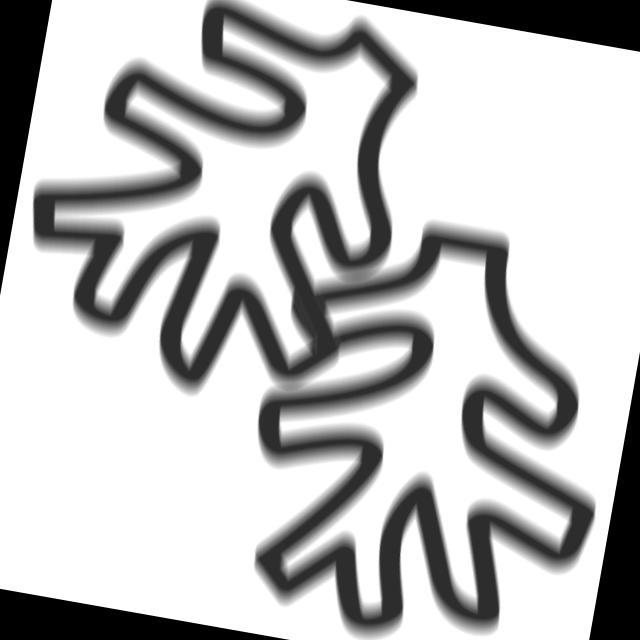coral: (211, 186, 640, 640), (1, 1, 443, 437)
